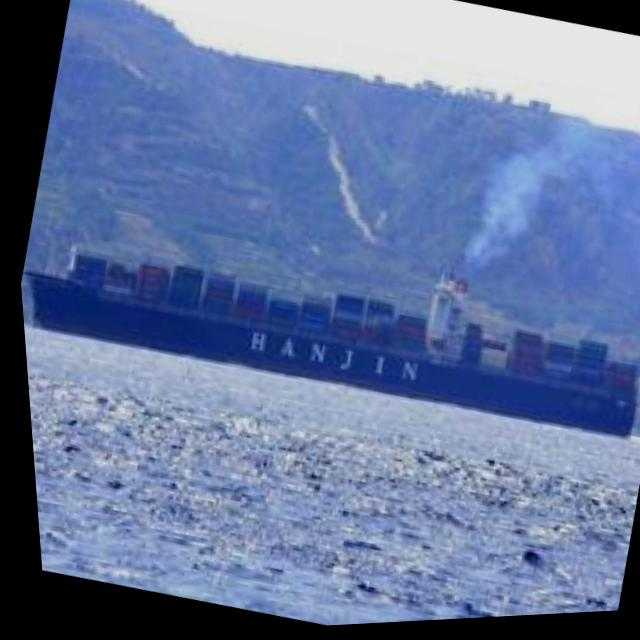ship2: (21, 244, 630, 447)
